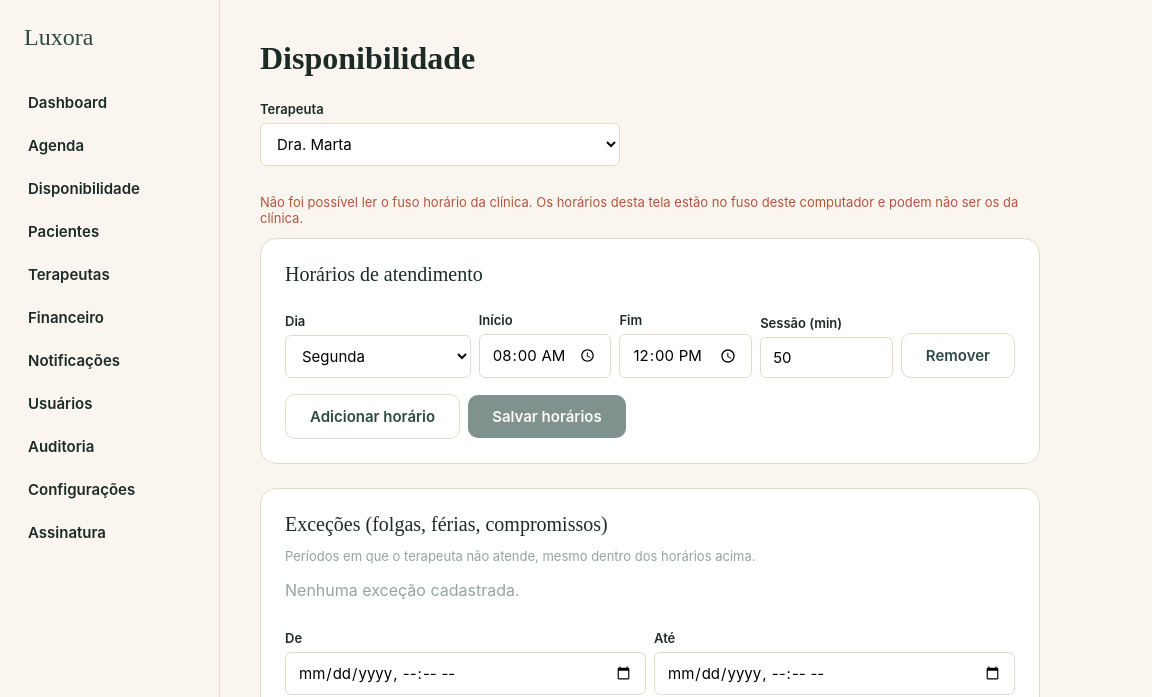
Scenario: DisponibilidadePage — horários de atendimento › adicionar um horário usa a duração padrão da clínica e salva a lista completa
Click the button "Adicionar horário": point(373, 416) [285, 394, 460, 439]
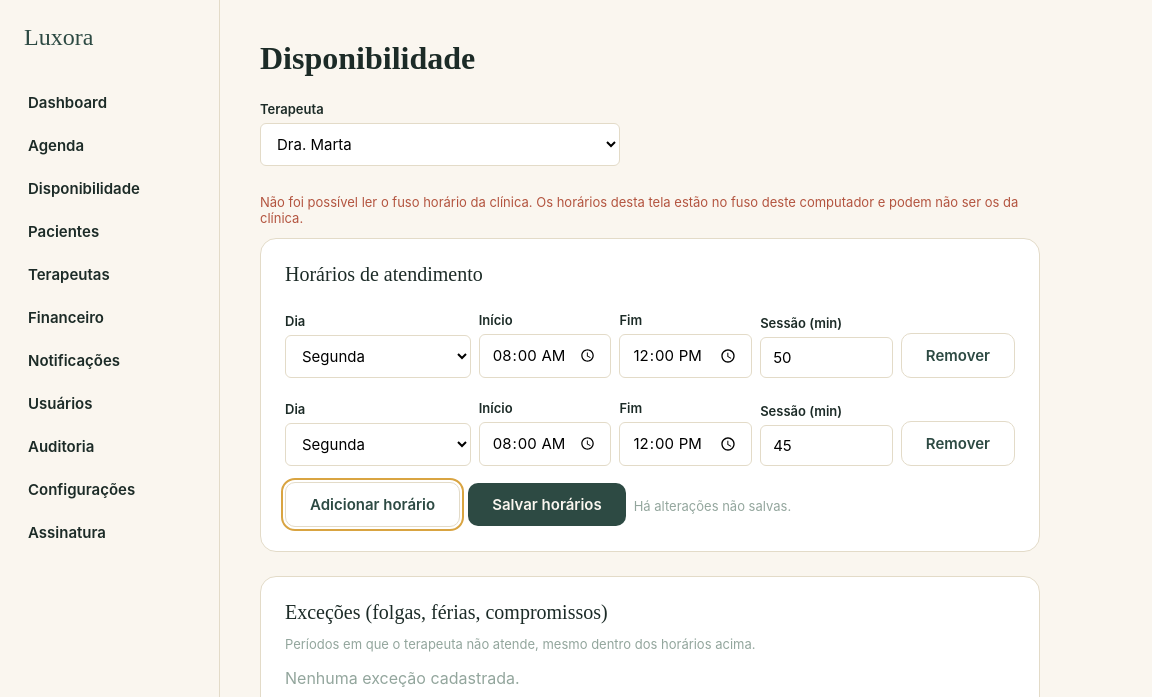
Expected: the text "Há alterações não salvas." is shown, [634, 498, 791, 514]
Click the button "Salvar horários": point(547, 504) [468, 482, 626, 526]
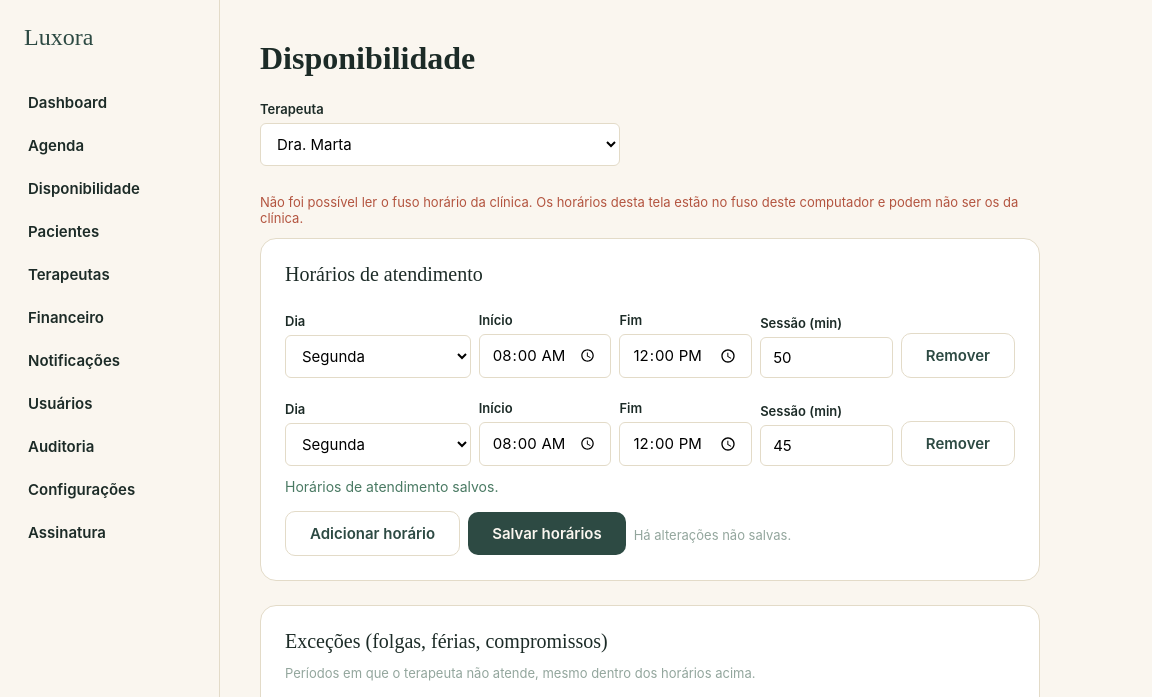
Expected: the message shows "Horários de atendimento salvos", [285, 478, 498, 494]
